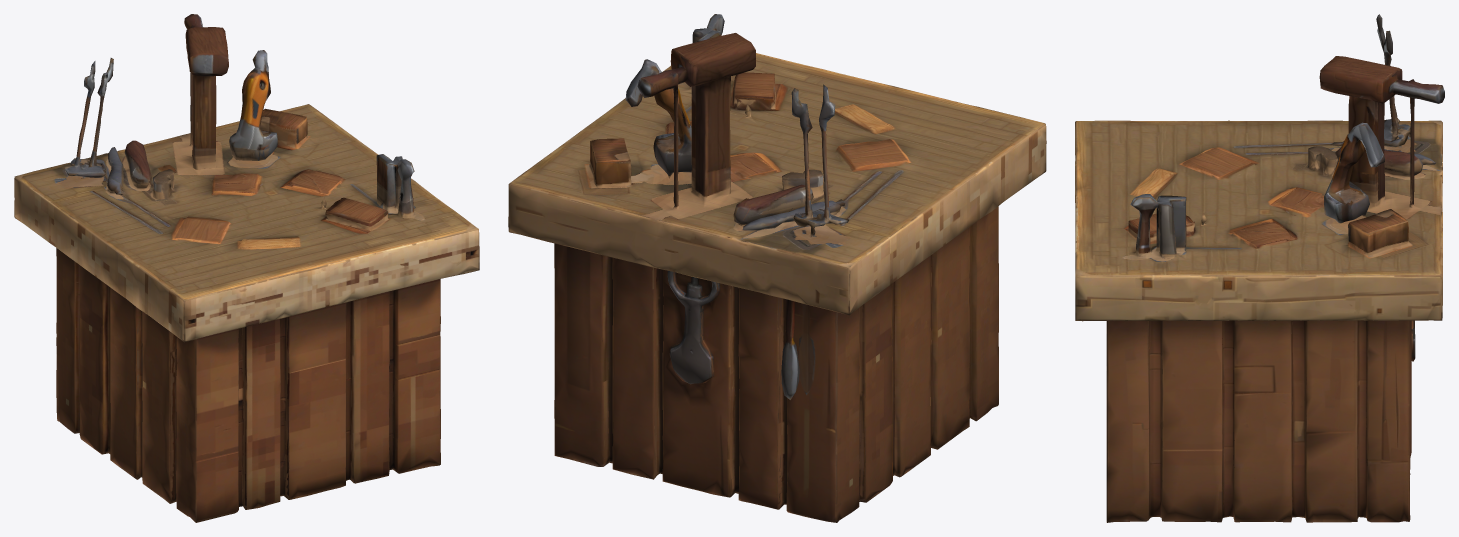
The model's file is crafttable.glb.
The picture shows the model from 3 angles, left to right: view 1: azimuth 30°, elevation 25°; view 2: azimuth 150°, elevation 25°; view 3: azimuth 270°, elevation 25°; orthographic projection. The views are drawn at different scales.
Bounding box in the file's own units: 1.7 × 2.02 × 1.71.
1 material, 1 textured.
